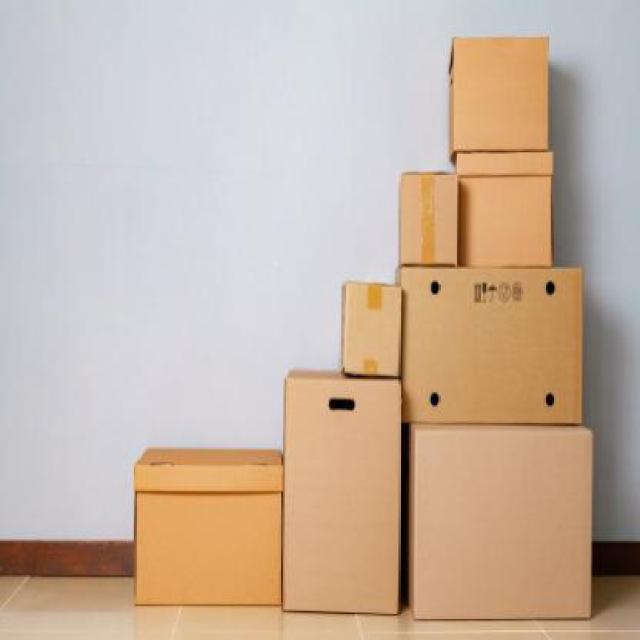box: (407, 428, 595, 624), (283, 372, 405, 615), (404, 269, 590, 426), (133, 439, 285, 616), (445, 32, 549, 152), (462, 150, 552, 266), (337, 272, 398, 374), (399, 162, 459, 264)
